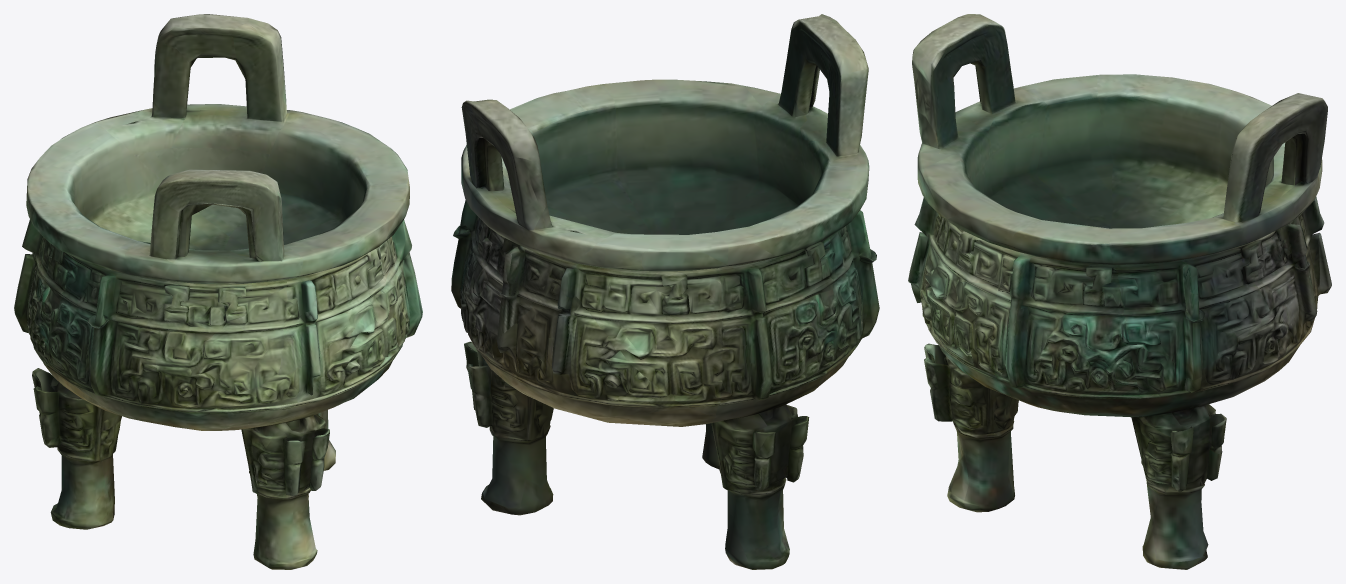
Rendered from ding-mid.glb.
The picture shows the model from 3 angles, left to right: view 1: azimuth 30°, elevation 25°; view 2: azimuth 150°, elevation 25°; view 3: azimuth 270°, elevation 25°; orthographic projection. The views are drawn at different scales.
Size of the model in its own units: 0.8528 by 0.9993 by 0.889.
1 material, 1 textured.
